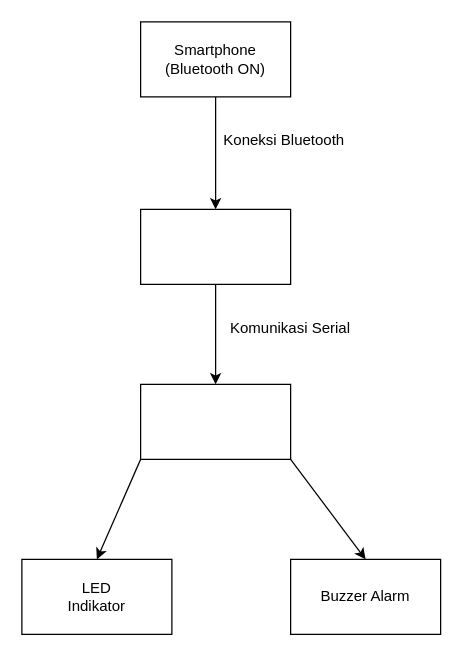
This 463x656 diagram has some shape labels left out. The centre of each missing label's shape, as x and y in pixels:
Arduino UNO (Controller): (215,421)
HC - 05 Module (Bluetooth RxTx): (215,246)
